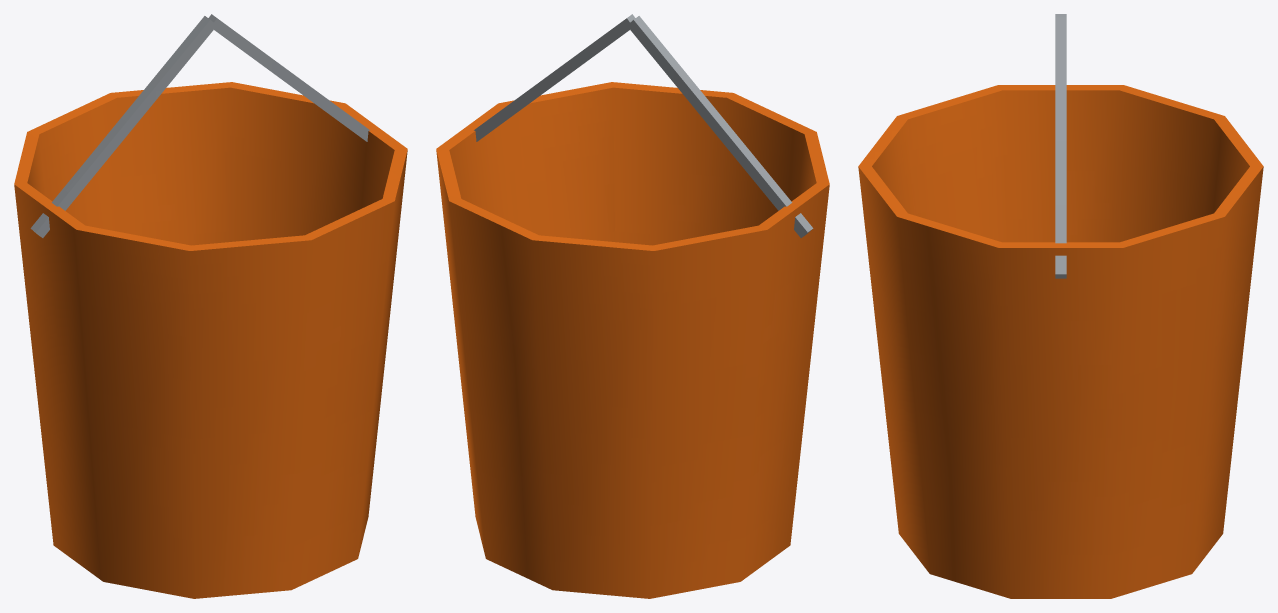
Rendered from balde.glb.
3 renders of one model, left to right at view 1: azimuth 30°, elevation 25°; view 2: azimuth 150°, elevation 25°; view 3: azimuth 270°, elevation 25°, orthographic.
Visible parts, largest first — view 1: Inteiro; view 2: Inteiro; view 3: Inteiro.
Part boxes in pixels (x1,y1,x2,y2): Inteiro: (14,14,407,598); Inteiro: (436,14,829,598); Inteiro: (858,14,1263,598).
Size of the model in its own units: 0.3058 by 0.4231 by 0.3.
1 material, 1 textured.
